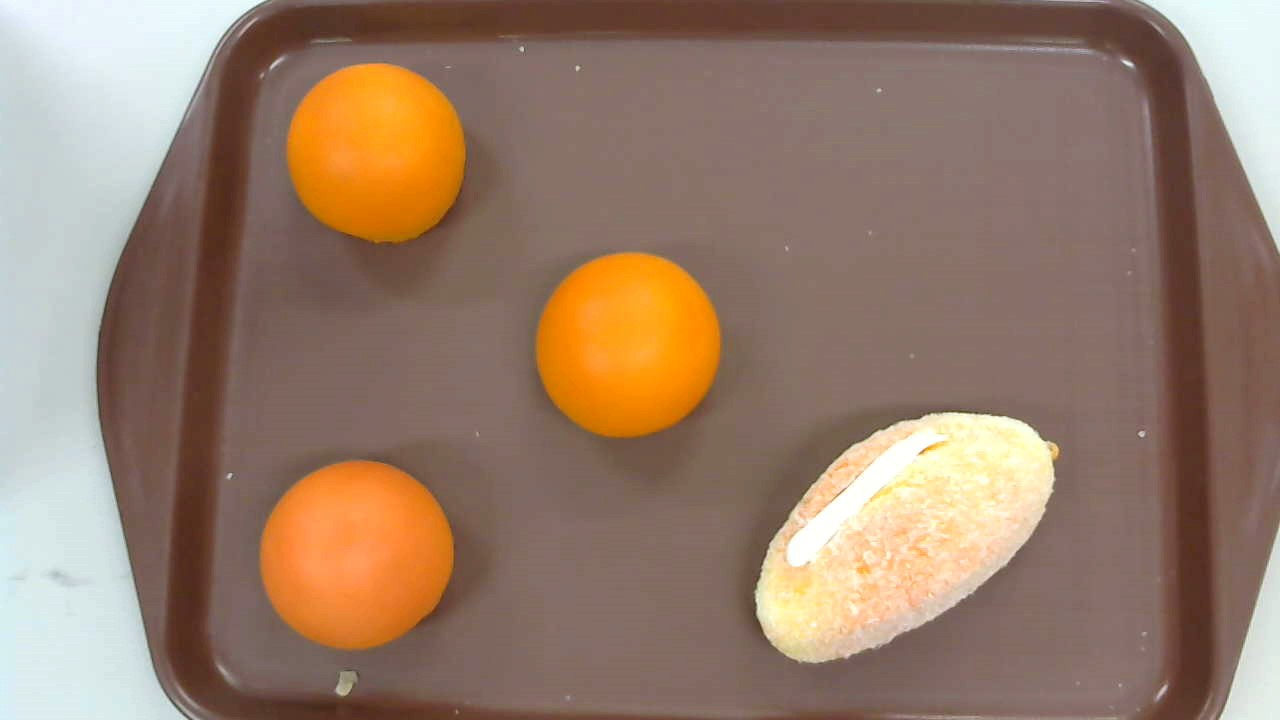bun: (260, 459, 454, 651), (535, 249, 720, 440), (286, 64, 466, 244)
coconut: (753, 410, 1059, 664)
